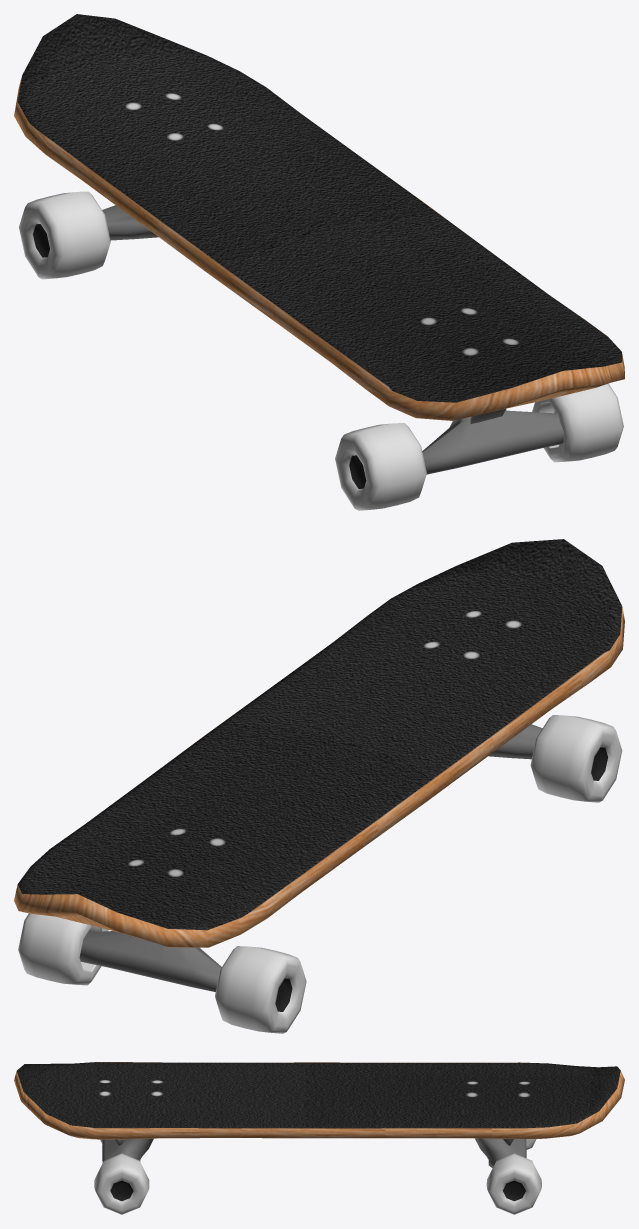
The model's file is Skateboard_d5220850.glb.
3 views of the same model, one above another, from view 1: azimuth 30°, elevation 25°; view 2: azimuth 150°, elevation 25°; view 3: azimuth 270°, elevation 25° (orthographic). The views are drawn at different scales.
Bounding box in the file's own units: 1.41 × 0.9411 × 4.8.
1 material, 1 textured.
